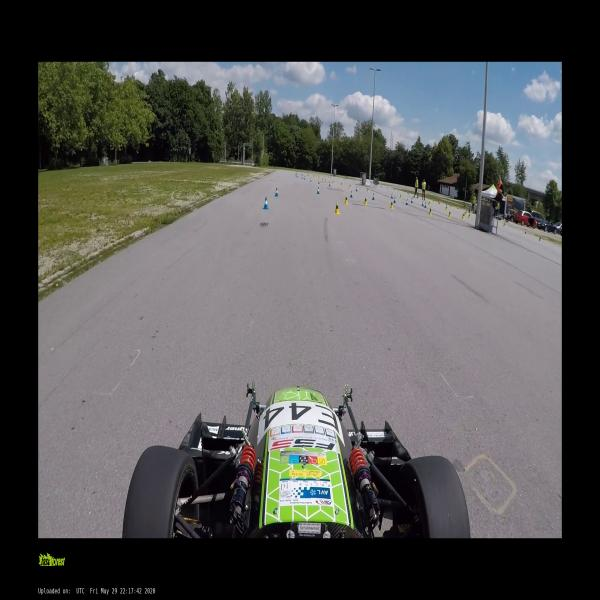blue_cone: (274, 188, 279, 198), (264, 197, 268, 209), (405, 199, 409, 206), (371, 193, 375, 200), (350, 190, 353, 198), (354, 186, 358, 192), (426, 204, 430, 210), (317, 187, 320, 194), (393, 196, 396, 203), (295, 173, 299, 178), (328, 181, 331, 187), (410, 198, 413, 203), (424, 202, 426, 208), (422, 200, 424, 206), (309, 177, 312, 181), (391, 193, 393, 199), (318, 180, 320, 184), (423, 197, 425, 201)
yellow_cone: (334, 202, 340, 215), (389, 200, 394, 210), (344, 195, 348, 205), (363, 196, 367, 206), (447, 211, 451, 219), (428, 208, 432, 215), (467, 212, 471, 219), (444, 205, 448, 211), (348, 183, 352, 189), (426, 204, 430, 210), (393, 196, 396, 203), (461, 214, 464, 220), (366, 187, 369, 192), (399, 194, 402, 199), (340, 182, 343, 187), (427, 201, 430, 206), (464, 211, 466, 216), (332, 180, 334, 185), (324, 178, 326, 182), (450, 204, 452, 207), (438, 201, 440, 204)
